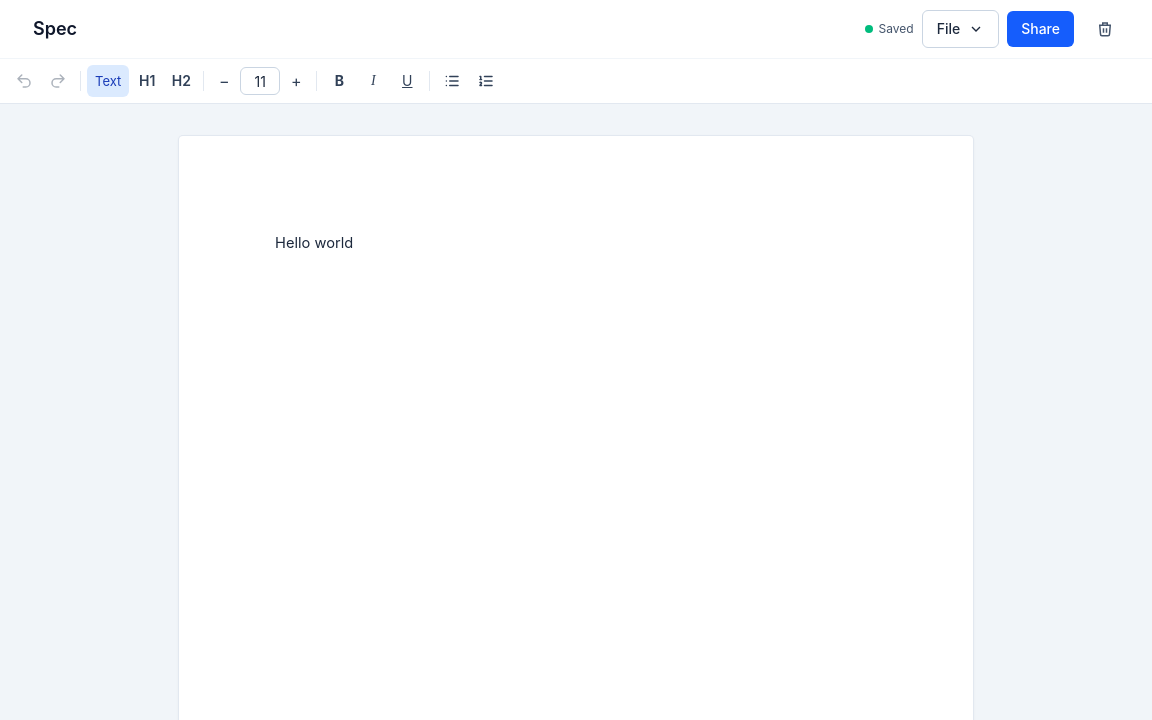
Test: DocumentEditor › font size control shows the default size and applies a new one to the selection
The width and height of the screenshot is (1152, 720).
expect the field named "Font size in points" holds "11": met, box [240,67,280,95]
Click the button named "Increase font size" at (296, 81), box [282,67,310,95]
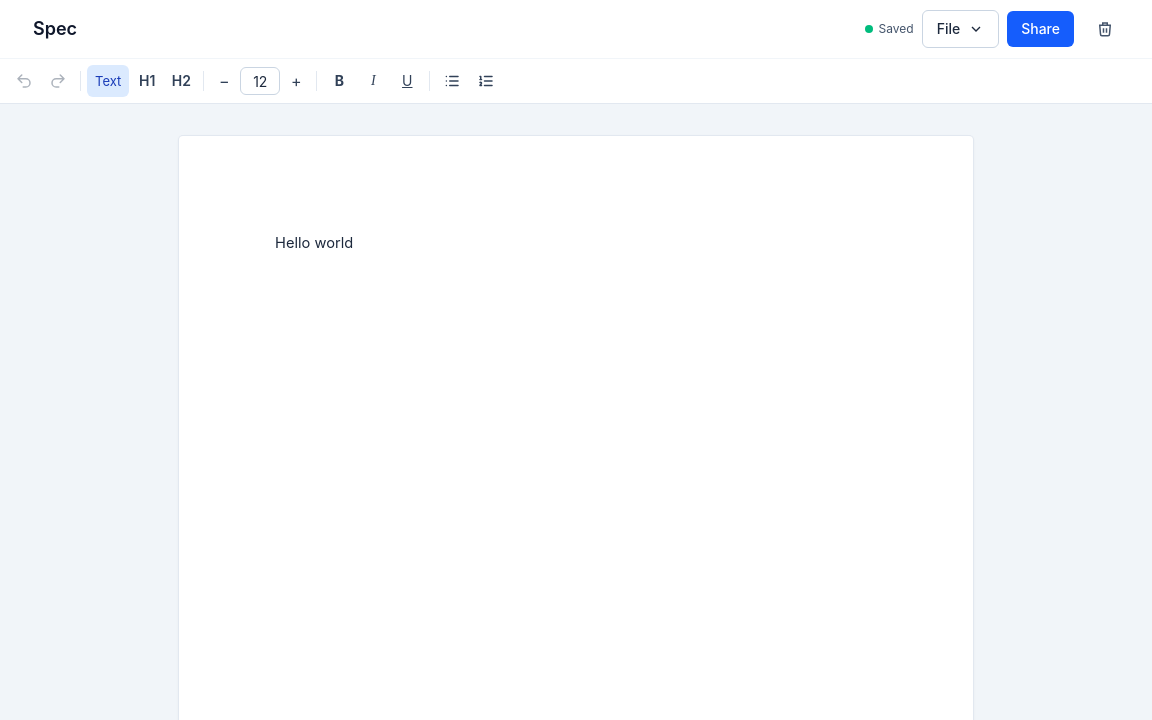
expect the field named "Font size in points" holds "12": met
Replace the text in the field named "Font size in points" with "30" at (260, 81), box [240,67,280,95]
Then press Enter
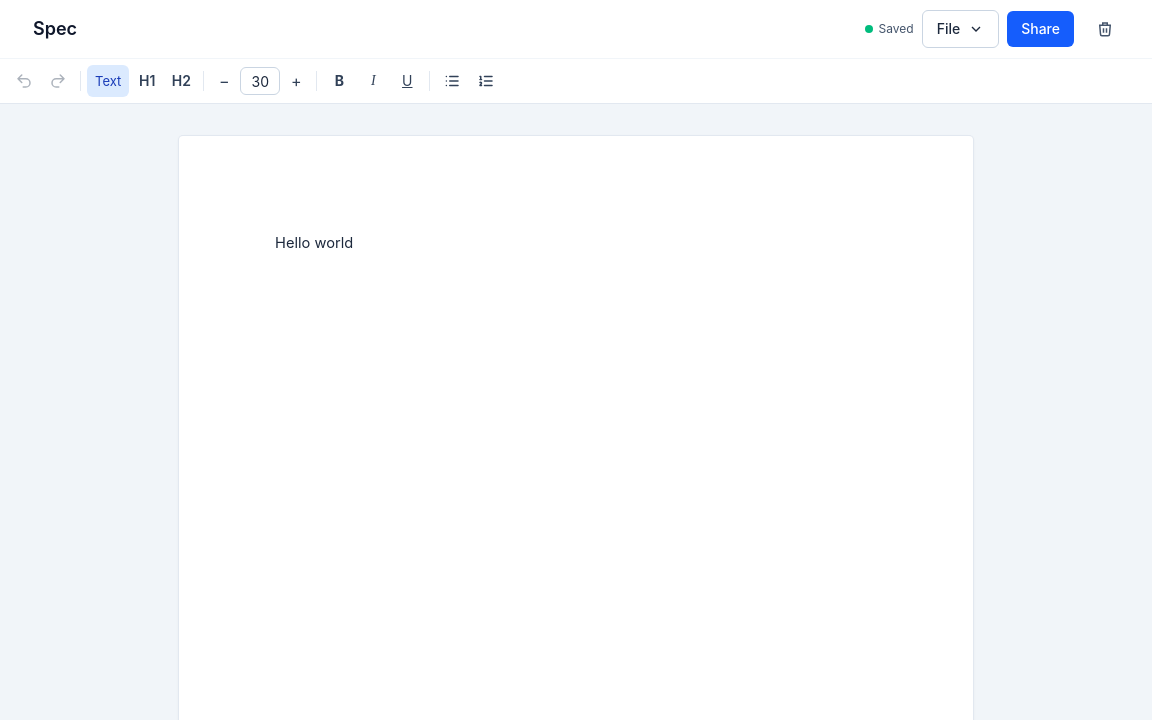
Click the button named "Heading 1" at (147, 81), box [131,65,163,97]
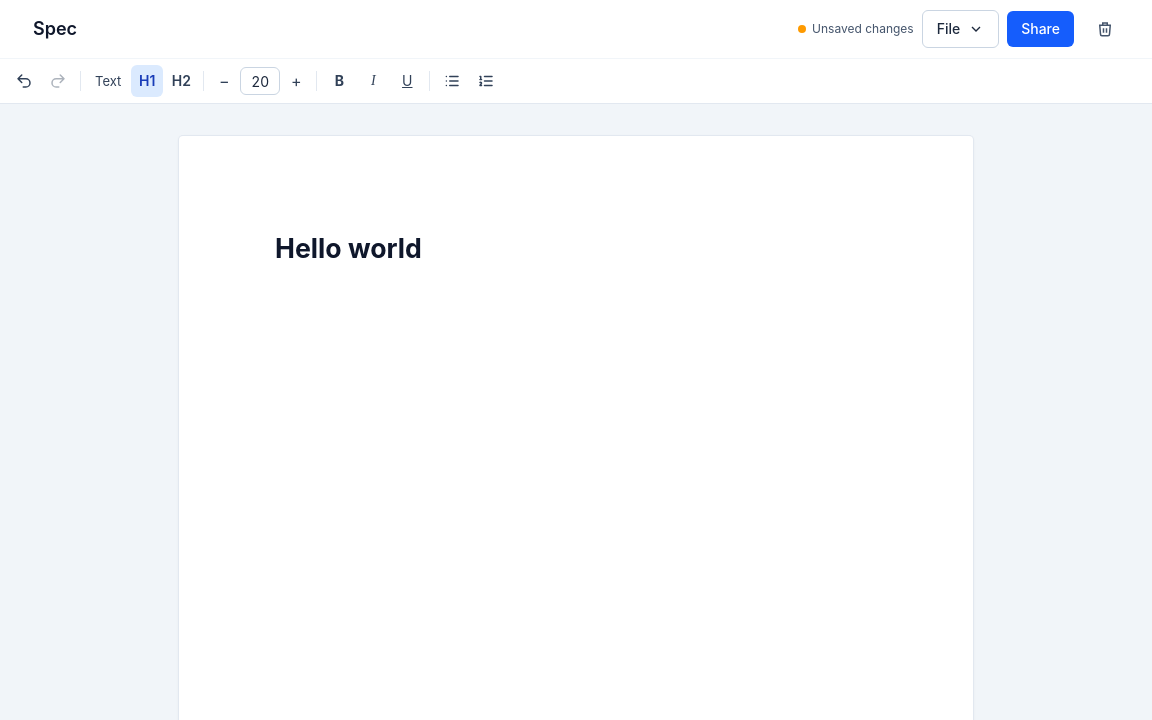
expect the field named "Font size in points" holds "20": met, box [240,67,280,95]
